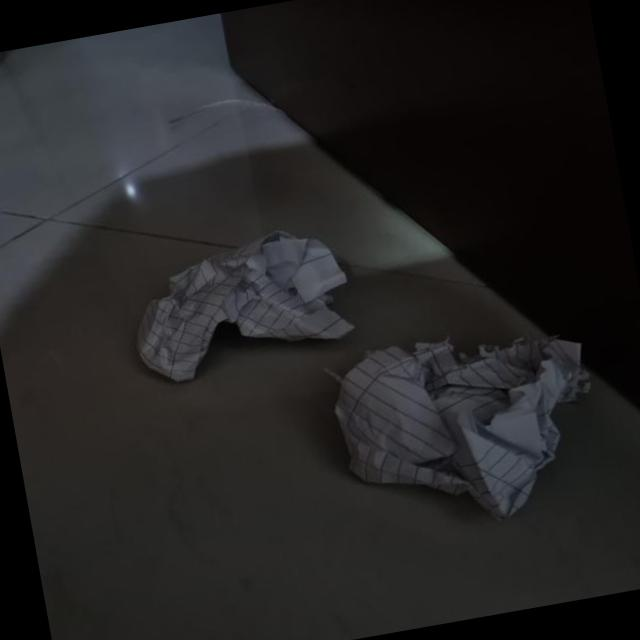cardboard paper: (337, 333, 590, 516), (139, 229, 353, 378)
